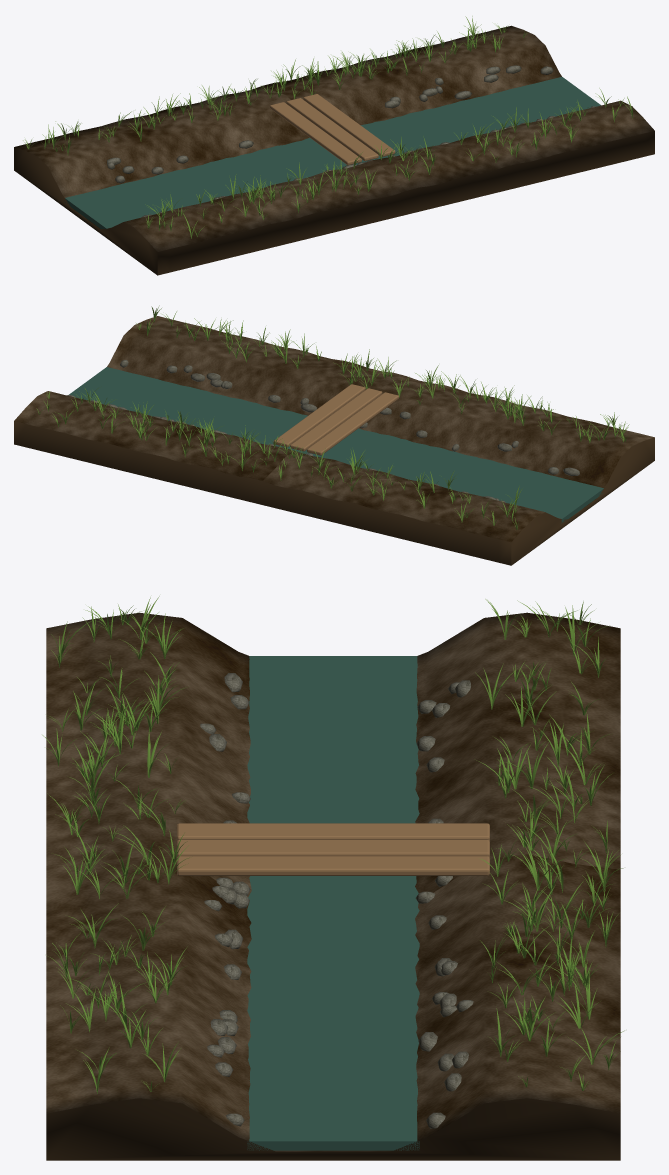
Rendered from KL_LS_Irrigation_Bund_8m.gltf.
3 views of the same model, one above another, from view 1: azimuth 30°, elevation 25°; view 2: azimuth 150°, elevation 25°; view 3: azimuth 270°, elevation 25° (orthographic). The views are drawn at different scales.
Visible parts, largest first — view 1: TF3_KL_LS_Irrigation_Bund_8m; view 2: TF3_KL_LS_Irrigation_Bund_8m; view 3: TF3_KL_LS_Irrigation_Bund_8m.
Part boxes in pixels (<box>): TF3_KL_LS_Irrigation_Bund_8m: <box>14,16,654,275</box>; TF3_KL_LS_Irrigation_Bund_8m: <box>14,305,654,565</box>; TF3_KL_LS_Irrigation_Bund_8m: <box>42,596,624,1160</box>.
Bounding box in the file's own units: 8 × 0.7935 × 4.1.
Materials: 5 (2 with a texture image).
